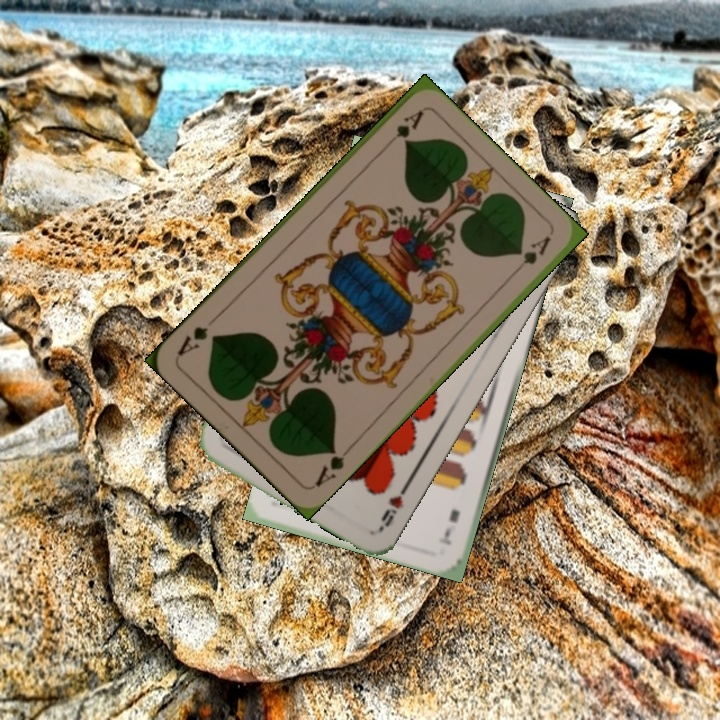E7: (436, 505, 463, 548)
GA: (310, 442, 355, 490), (379, 106, 427, 151)
H9: (375, 479, 412, 533)
